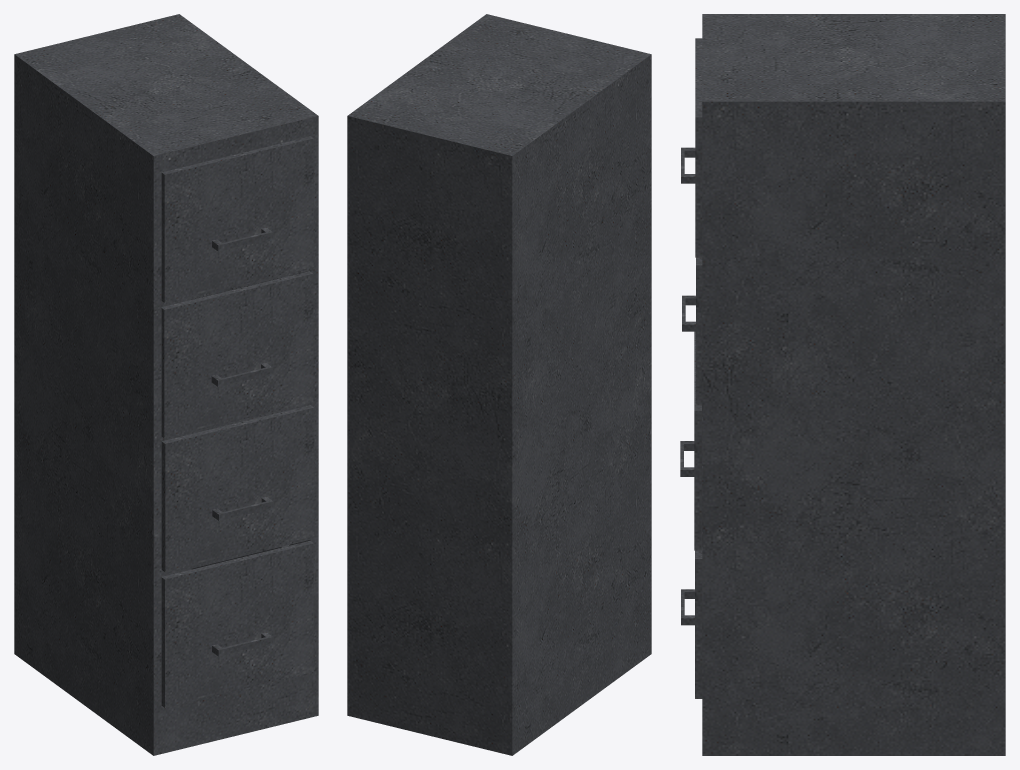
3 views of the same model, side by side, from view 1: azimuth 30°, elevation 25°; view 2: azimuth 150°, elevation 25°; view 3: azimuth 270°, elevation 25° (orthographic). The views are drawn at different scales.
Parts seen in each view (by area): view 1: cabinits; view 2: cabinits; view 3: cabinits.
Part boxes in pixels (<box>): cabinits: <box>14,14,318,755</box>; cabinits: <box>347,14,651,755</box>; cabinits: <box>680,14,1005,755</box>.
Size of the model in its own units: 38 by 132 by 59.54.
1 material, 1 textured.
